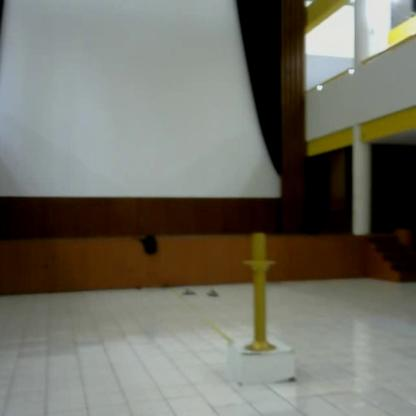pole: (238, 230, 282, 359)
